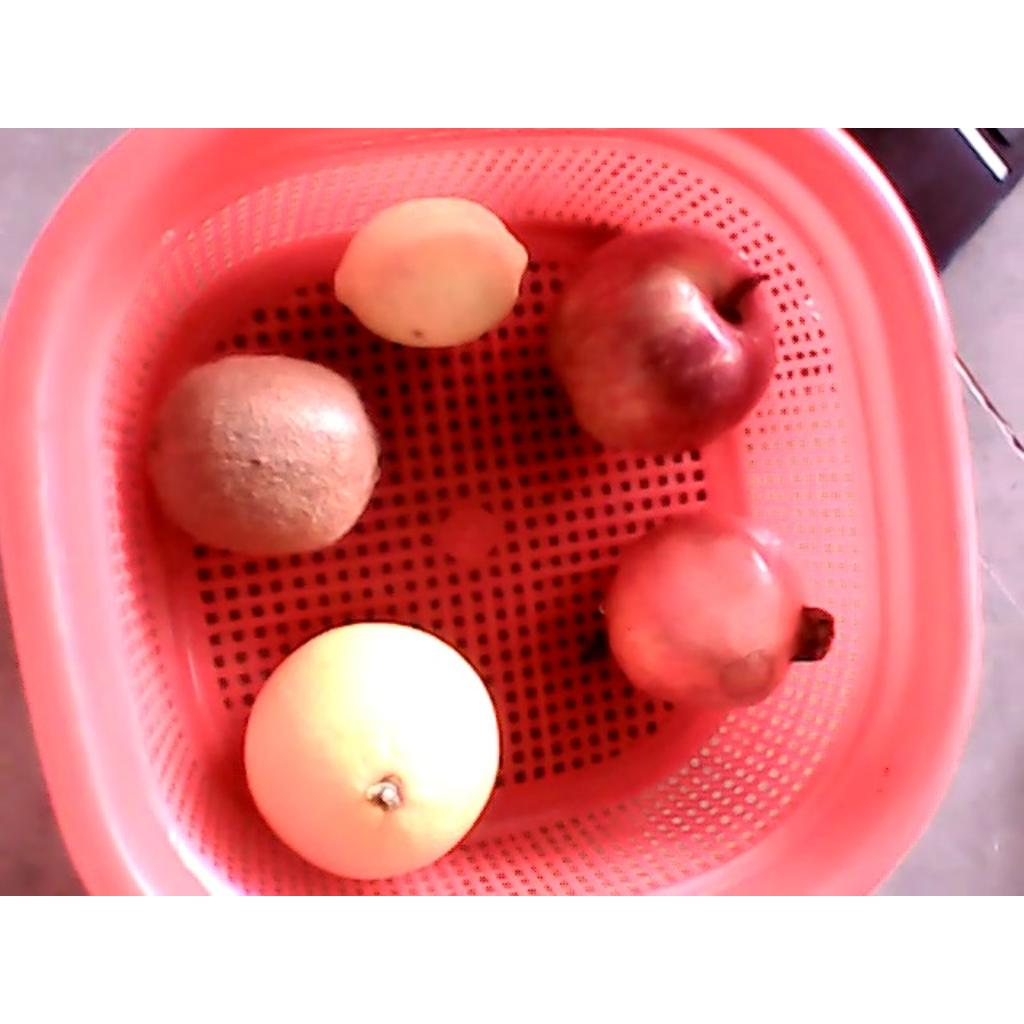apple: (545, 224, 779, 454)
kiwi: (138, 356, 378, 557)
lemon: (334, 193, 531, 347)
orange: (241, 623, 501, 882)
pomegranate: (602, 509, 835, 712)
